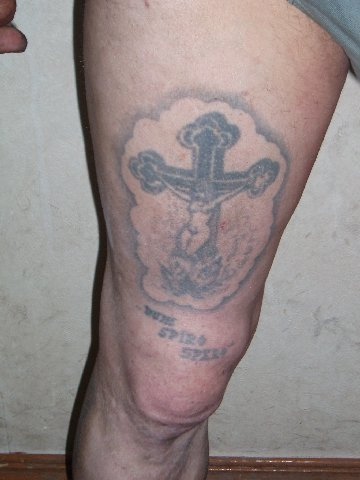tatu9_krest: (128, 104, 280, 290)
